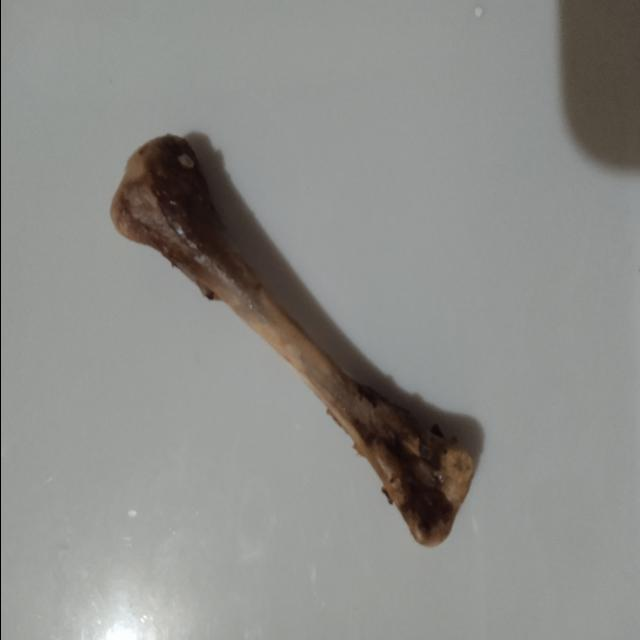bone: (99, 128, 487, 561)
